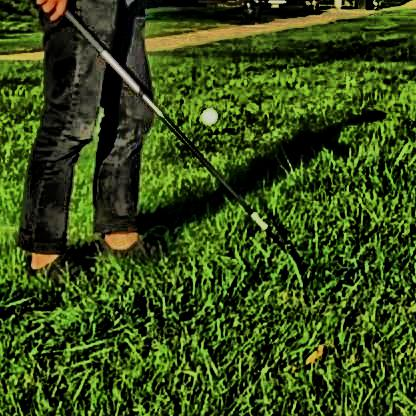golfball: (197, 104, 216, 123)
